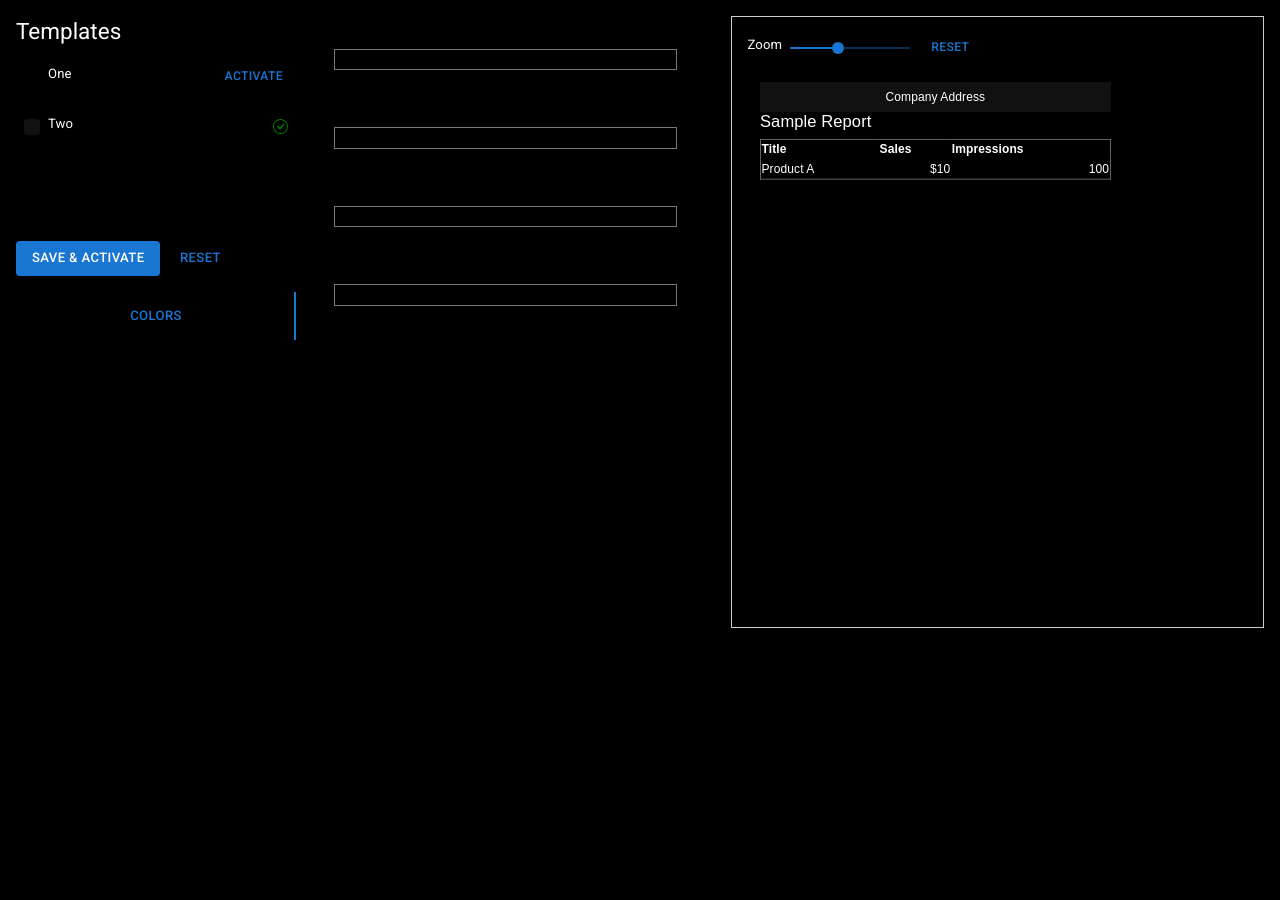
Test: TemplateBuilder › activate button switches active template
Click the button "Activate".
click(254, 77)  # box [220,62,288,91]
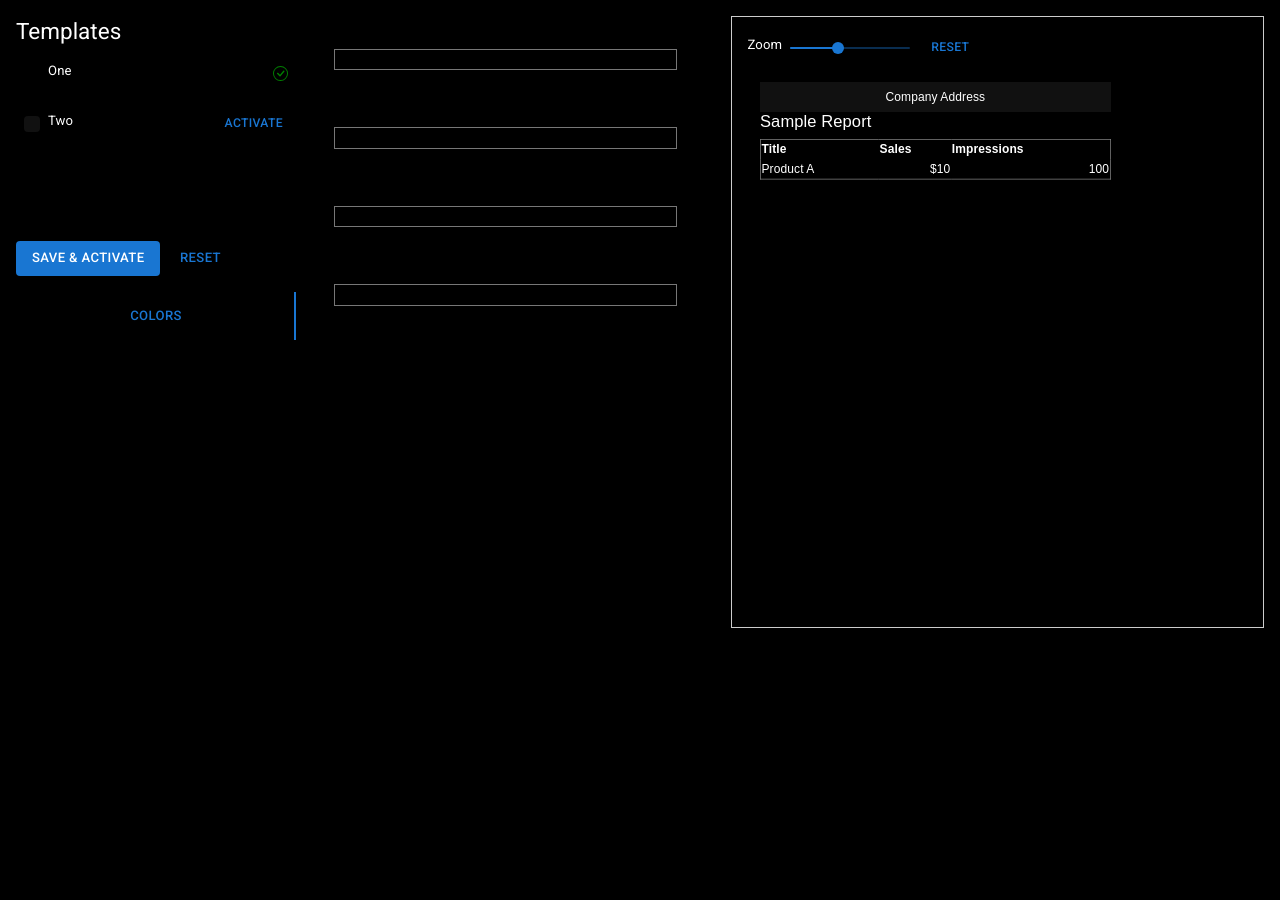
Expected: the icon with test id "active-one" is shown, [273,66,288,81]
